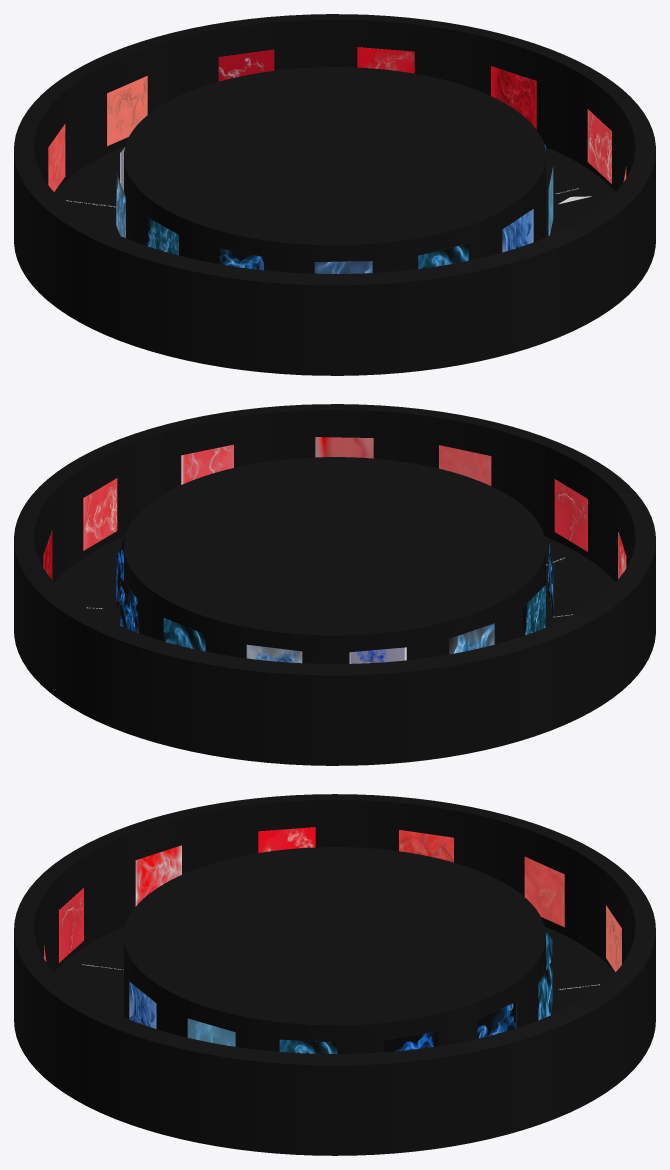
File: botswana copy.glb
3 renders of one model, top to bottom at view 1: azimuth 30°, elevation 25°; view 2: azimuth 150°, elevation 25°; view 3: azimuth 270°, elevation 25°, orthographic.
Parts seen in each view (by area): view 1: Cylinder, causrod_exterior, Cuadros_interior; view 2: Cylinder, causrod_exterior, Cuadros_interior; view 3: Cylinder, causrod_exterior, Cuadros_interior.
Boxes of the visible parts, box(x1,y1,x2,y2) form: Cylinder: box(14, 14, 655, 375); causrod_exterior: box(48, 47, 626, 191); Cuadros_interior: box(116, 144, 553, 273); Cylinder: box(14, 404, 655, 765); causrod_exterior: box(43, 437, 626, 579); Cuadros_interior: box(116, 533, 553, 663); Cylinder: box(14, 794, 655, 1155); causrod_exterior: box(44, 827, 621, 971); Cuadros_interior: box(129, 928, 552, 1053).
Size of the model in its own units: 11.25 by 1.8 by 11.25.
Materials: 26 (25 with a texture image).
